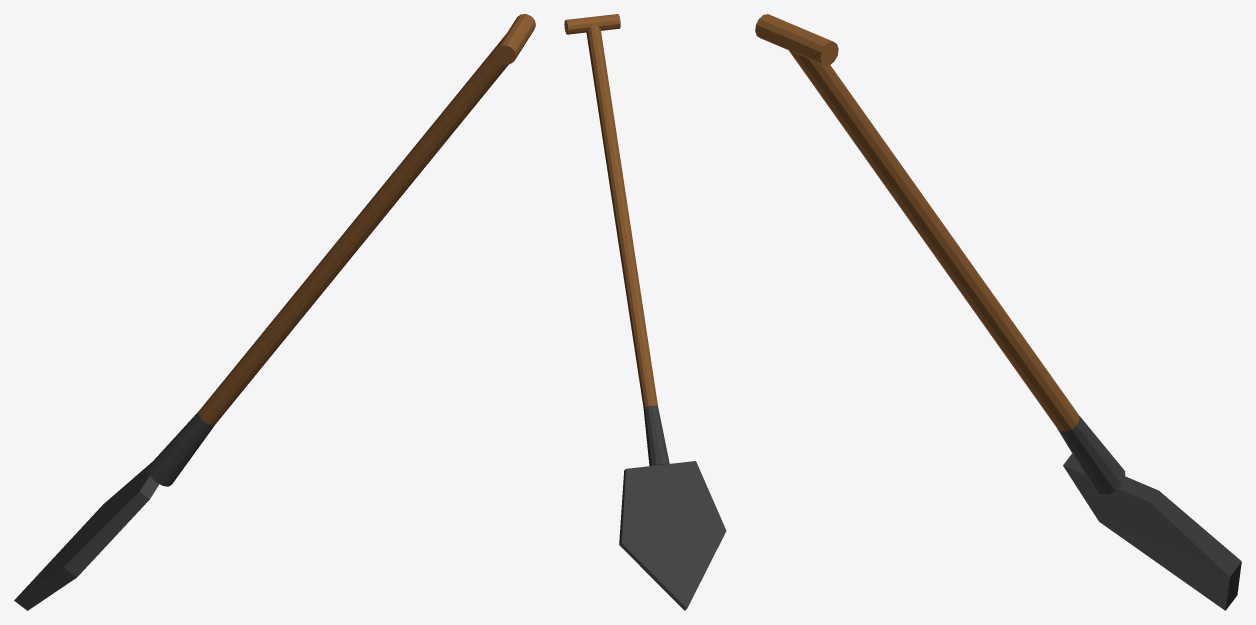
File: shovel1.glb
The picture shows the model from 3 angles, left to right: view 1: azimuth 30°, elevation 25°; view 2: azimuth 150°, elevation 25°; view 3: azimuth 270°, elevation 25°; orthographic projection. The views are drawn at different scales.
Visible parts, largest first — view 1: Handle, Spade, Collar, GripH; view 2: Spade, Handle, Collar, GripH, GripV; view 3: Handle, Spade, Collar, GripH.
Boxes of the visible parts, x1,y1,x2,y2 form: Handle: (198, 62, 499, 425); Spade: (14, 462, 159, 610); Collar: (147, 411, 215, 486); GripH: (495, 14, 535, 64); Spade: (619, 461, 726, 610); Handle: (590, 52, 657, 407); Collar: (643, 405, 669, 465); GripH: (564, 14, 620, 34); GripV: (586, 23, 603, 54); Handle: (808, 65, 1079, 431); Spade: (1063, 454, 1241, 610); Collar: (1057, 415, 1125, 494); GripH: (755, 14, 838, 65).
Bounding box in the file's own units: 0.9473 × 1.64 × 0.9473.
